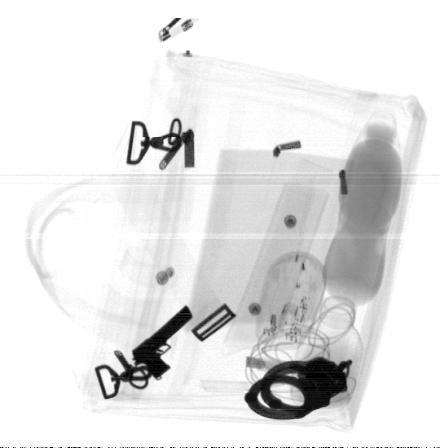Gun: (131, 301, 196, 380)
HandCuffs: (241, 357, 355, 423)
